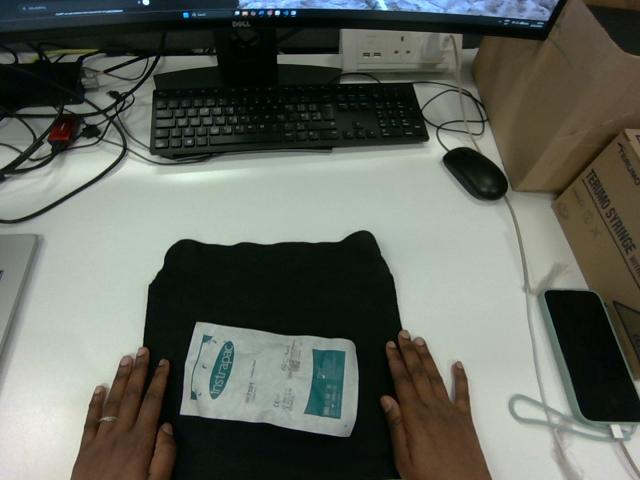gallipot: (180, 322, 357, 436)
